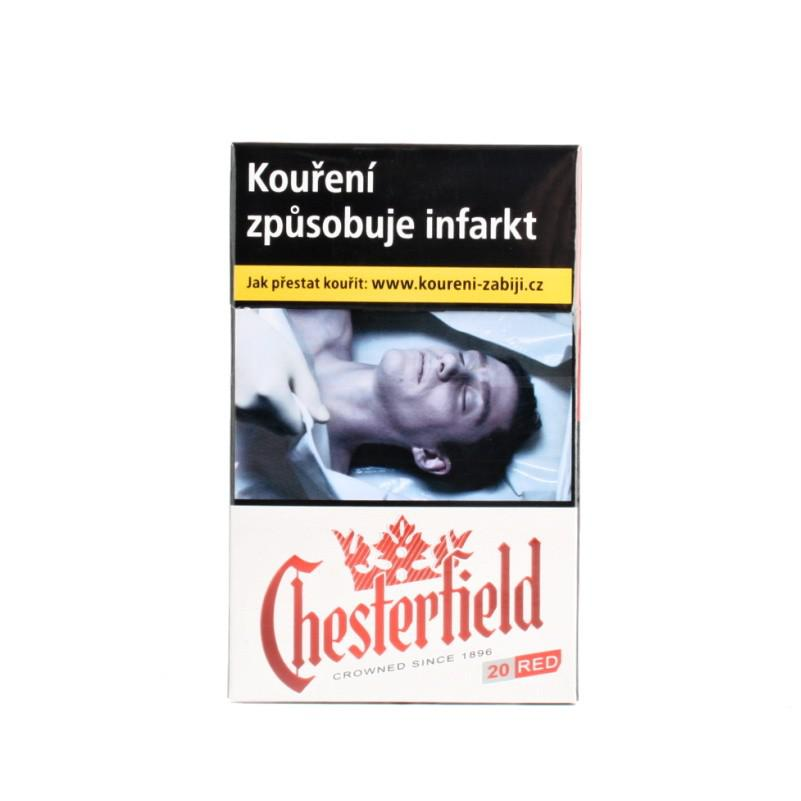chesterfield_red: (234, 143, 577, 703)
